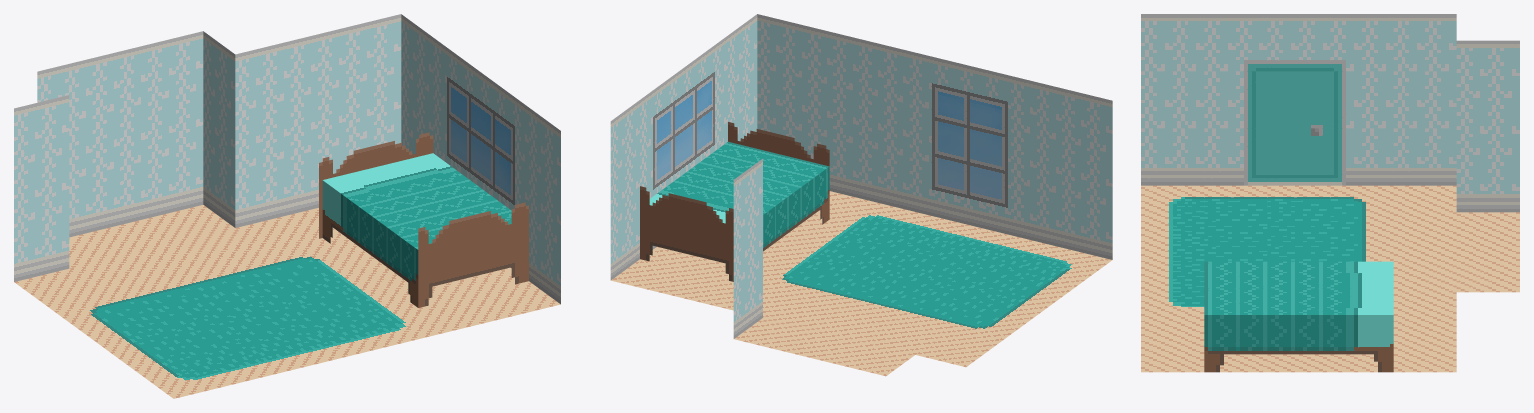
File: venns_room_2.gltf
The picture shows the model from 3 angles, left to right: view 1: azimuth 30°, elevation 25°; view 2: azimuth 150°, elevation 25°; view 3: azimuth 270°, elevation 25°; orthographic projection. The views are drawn at different scales.
Parts seen in each view (by area): view 1: default, obj_venns_bed; view 2: default, obj_venns_bed; view 3: default, obj_venns_bed.
Part boxes in pixels (<box>): default: <box>14,14,560,398</box>; obj_venns_bed: <box>319,132,528,307</box>; default: <box>610,14,1112,376</box>; obj_venns_bed: <box>640,122,829,281</box>; default: <box>1141,14,1519,372</box>; obj_venns_bed: <box>1204,261,1393,372</box>.
Bounding box in the file's own units: 8 × 4 × 6.
13 materials, 13 textured.
